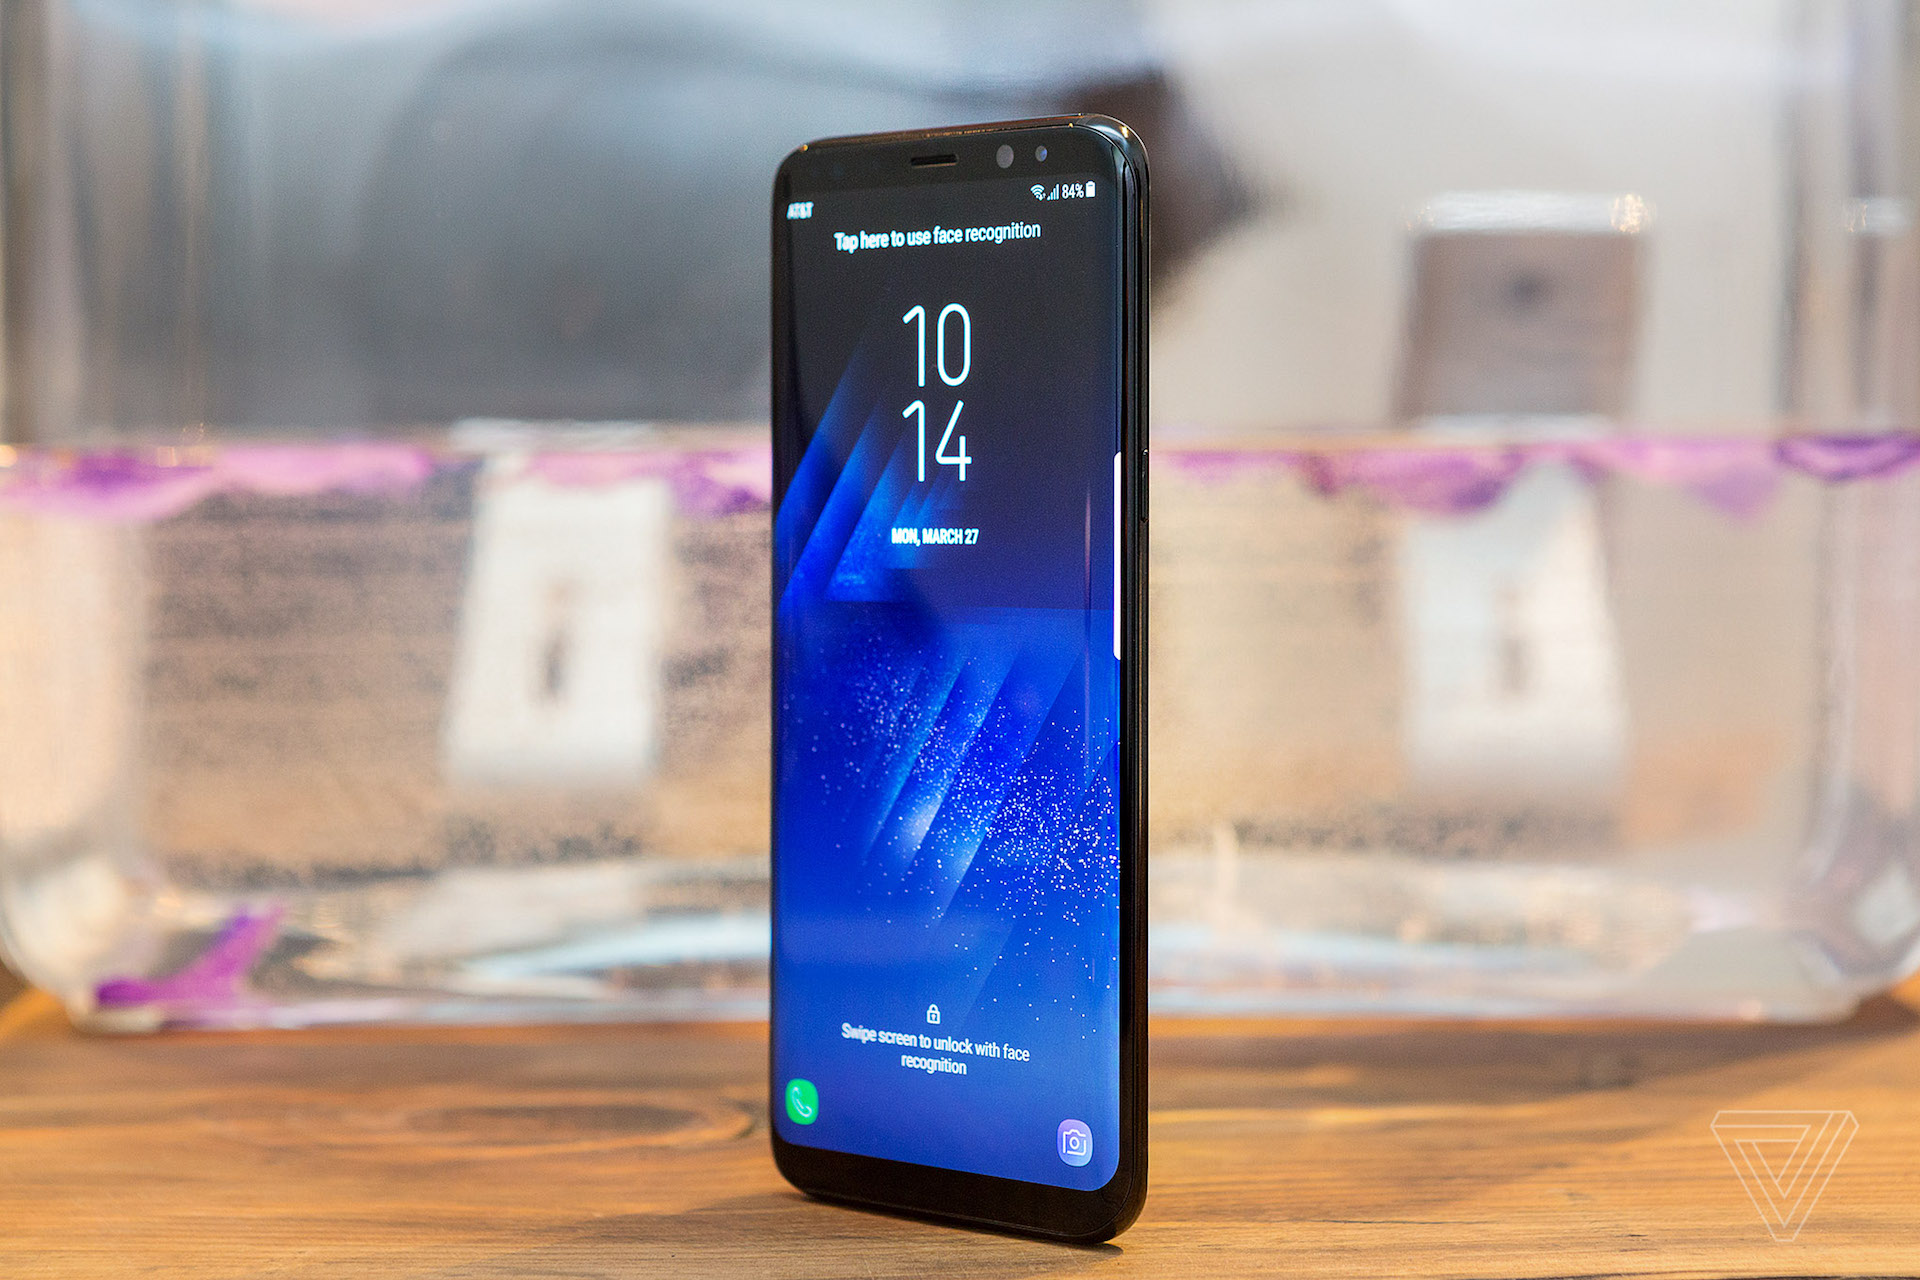smartphone: (764, 109, 1156, 1244)
